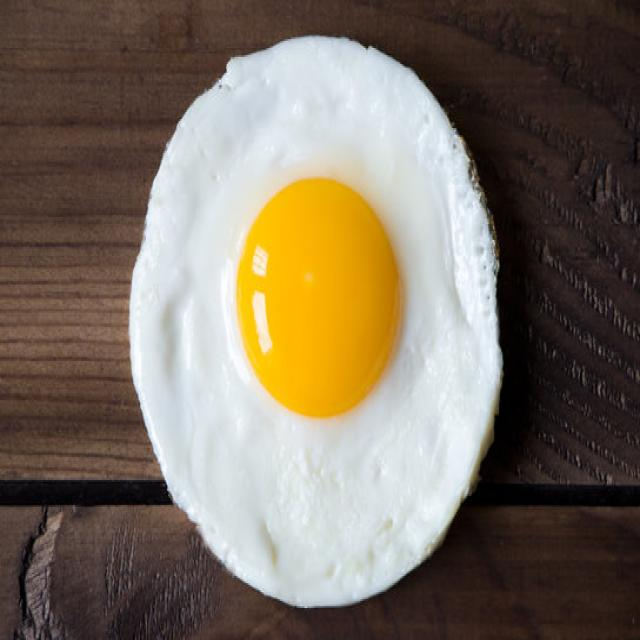Egg: (131, 38, 501, 606)
